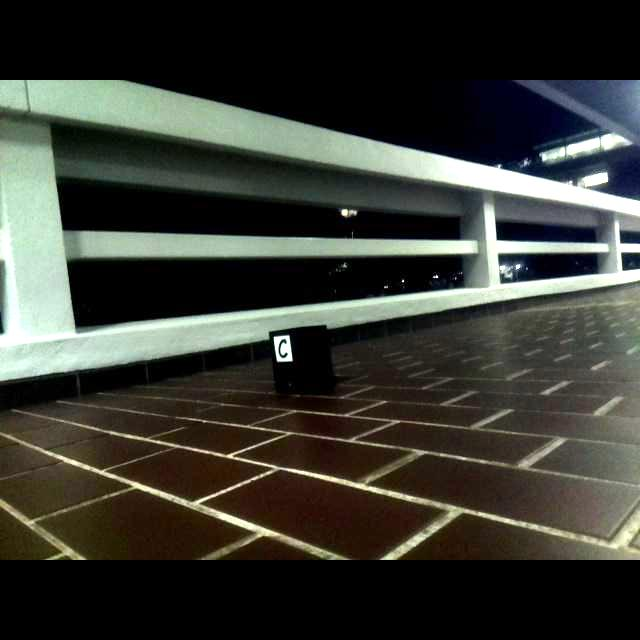C: (278, 339, 288, 359)
